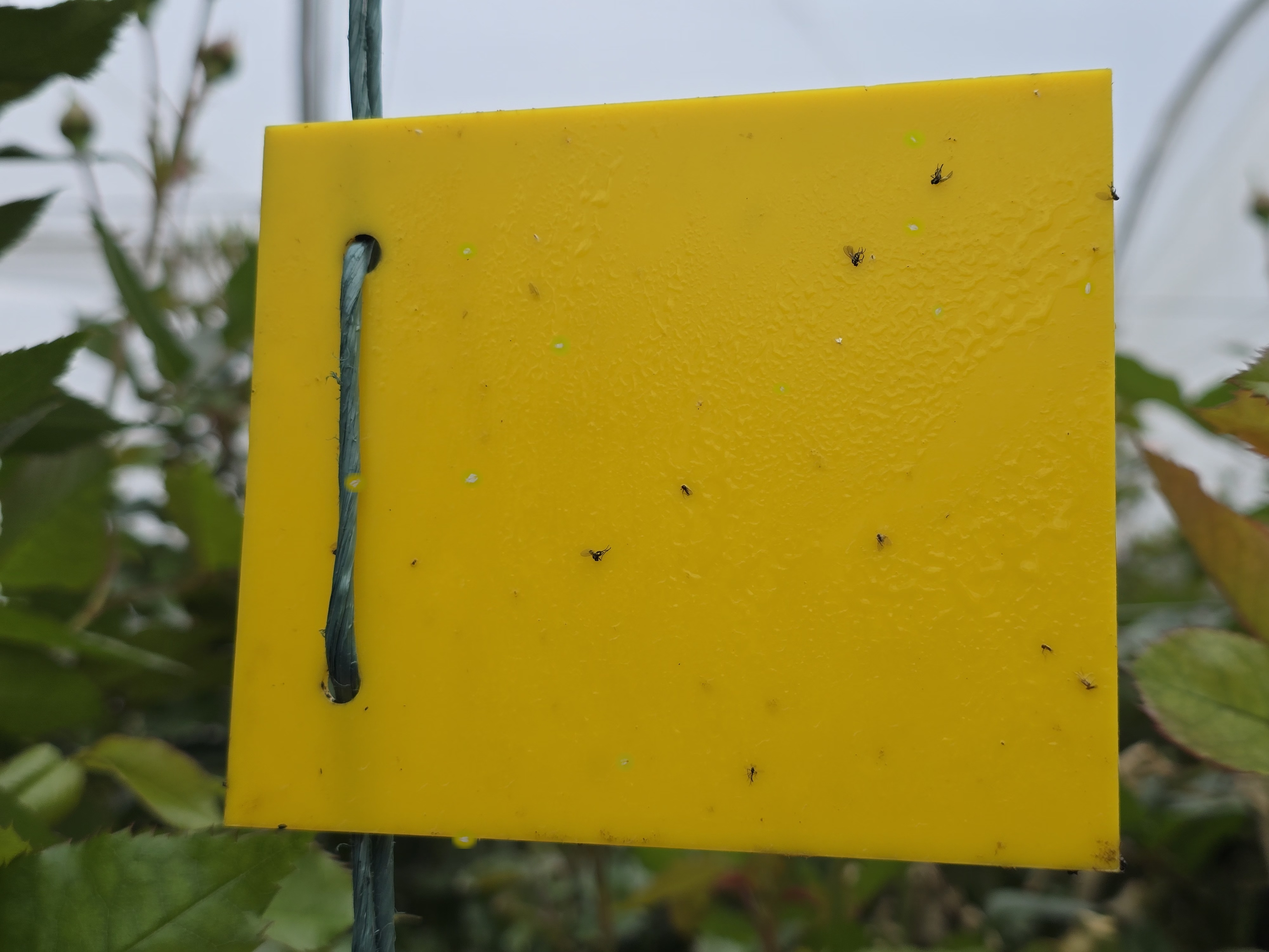WF: (455, 832, 473, 846), (905, 220, 922, 234), (553, 338, 568, 353), (463, 471, 479, 485), (906, 132, 922, 146), (347, 476, 364, 489), (618, 755, 632, 769), (1081, 280, 1093, 295), (460, 244, 475, 256), (832, 336, 847, 345), (774, 384, 787, 393), (414, 127, 424, 136), (933, 306, 942, 316)
